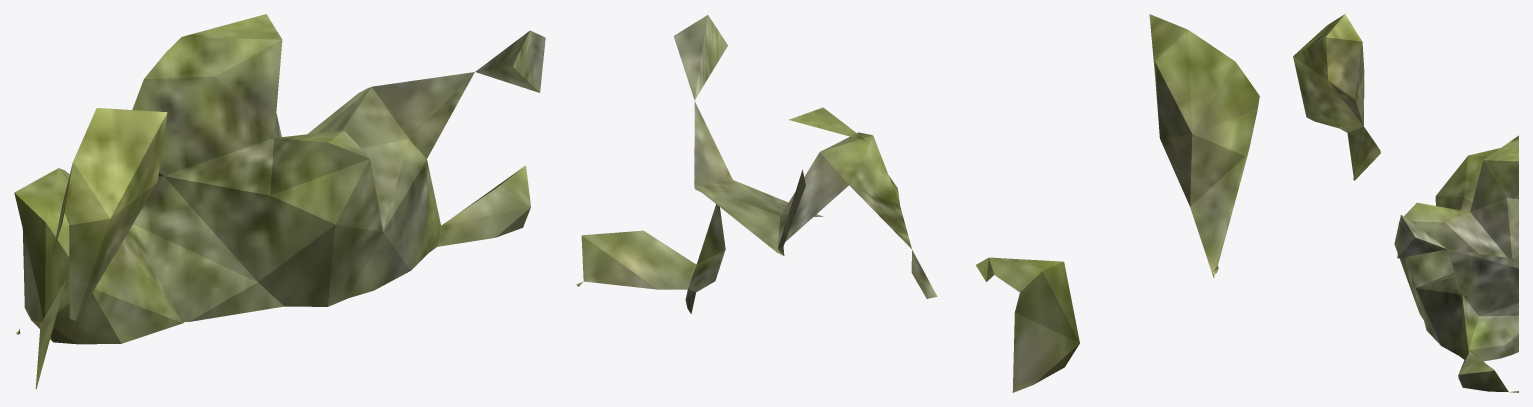
3 views of the same model, side by side, from view 1: azimuth 30°, elevation 25°; view 2: azimuth 150°, elevation 25°; view 3: azimuth 270°, elevation 25° (orthographic). The views are drawn at different scales.
Bounding box in the file's own units: 2.04 × 1.02 × 1.01.
Materials: 1 (1 with a texture image).
